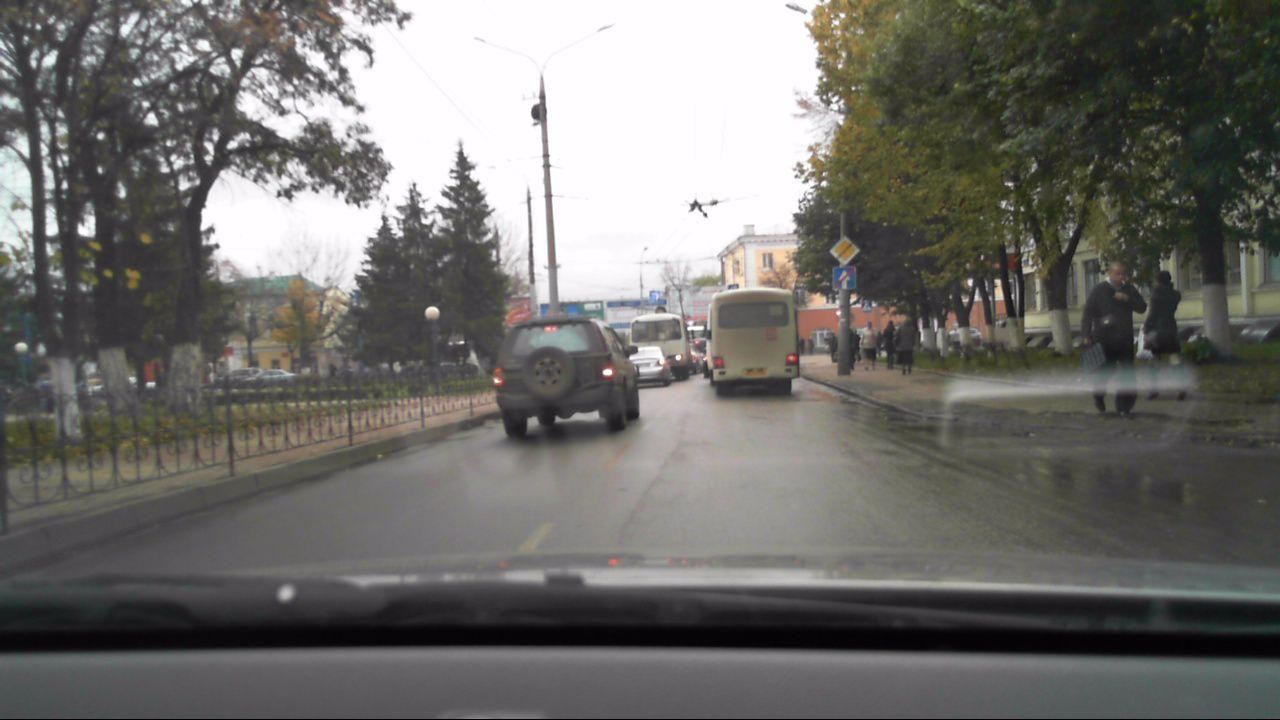2_2: (828, 235, 861, 263)
5_6: (831, 266, 856, 292)
